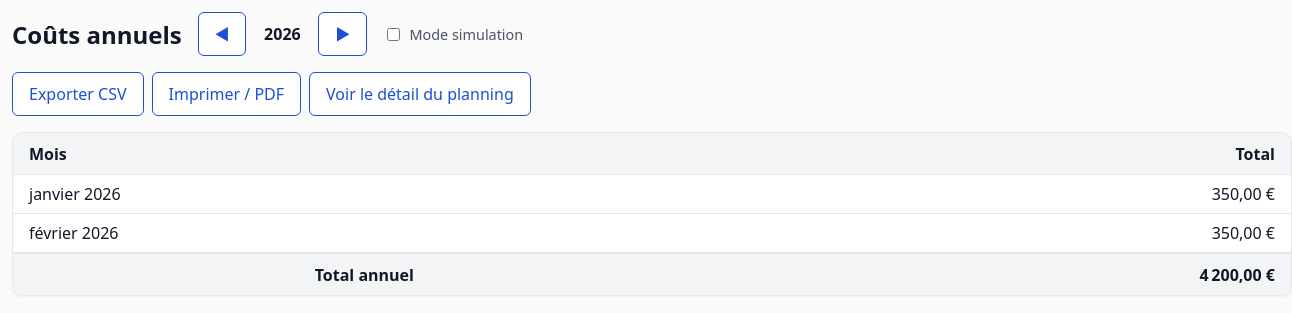
Test case: CoutsAnnuelsPage › passe à l'année suivante avec ▶ et refetch
Expected: the column heading "janvier 2026" is shown, left=13, top=175, right=716, bottom=214
Click the button named "Année suivante" at coordinates (343, 34), box left=318, top=12, right=367, bottom=56
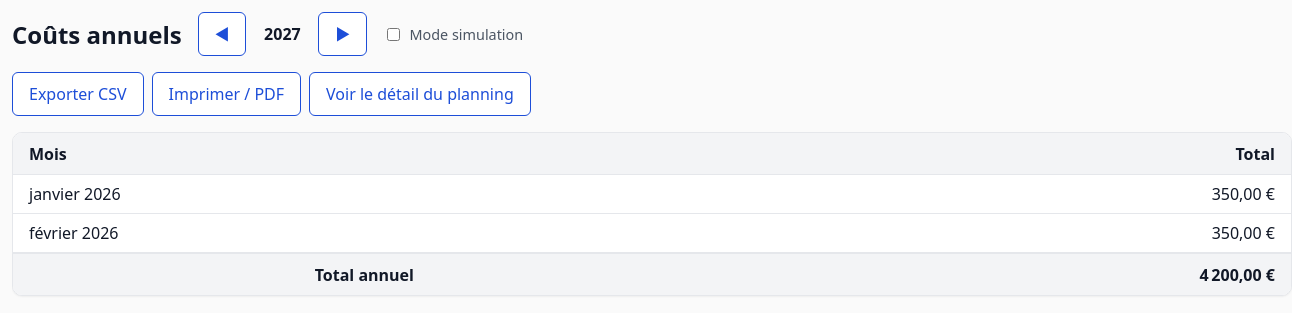
Now the text "2027" is shown, box left=264, top=23, right=301, bottom=45
